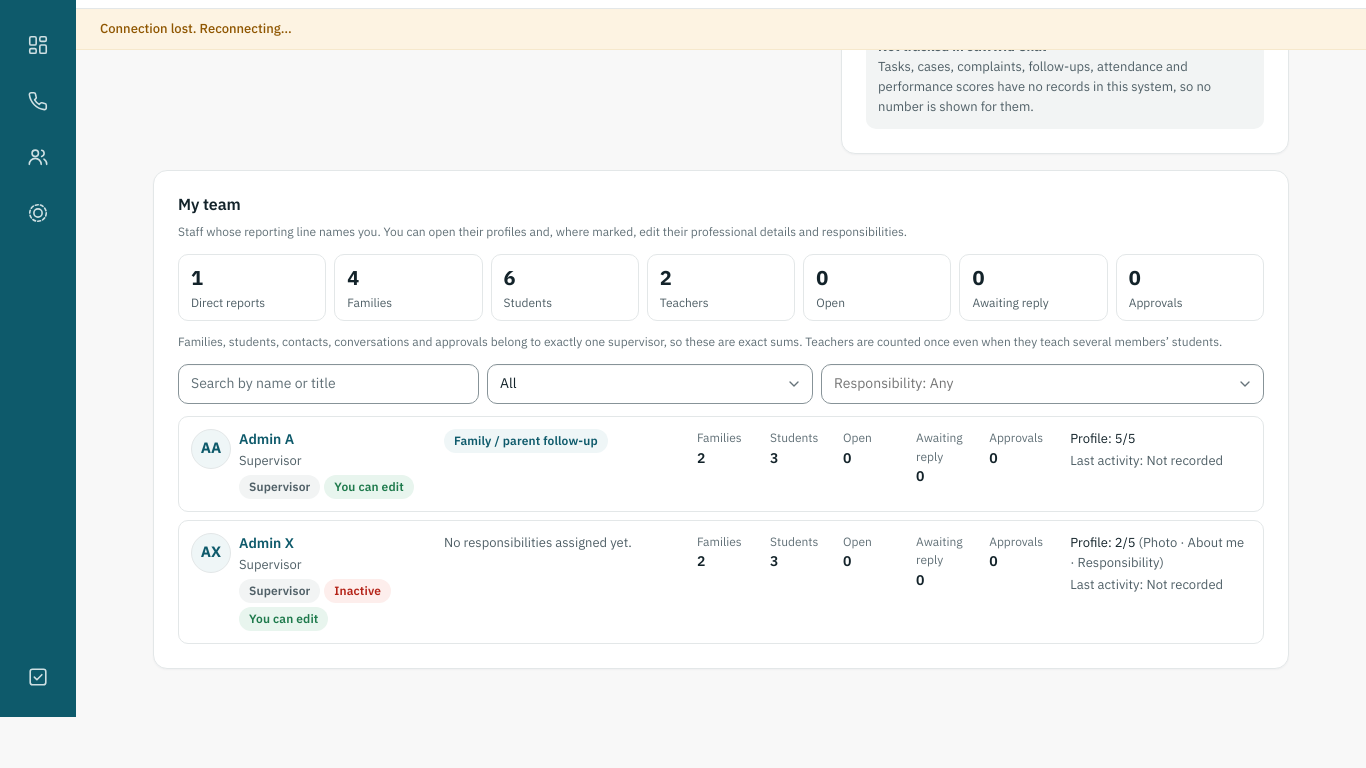
a manager › filters the team by search and by status
This screenshot has width=1366, height=768.
(page scrolled)
Expected: the link "Admin A" is shown, [239, 429, 294, 450]
Type "Admin X" into the search field with placeholder "Search by name or title" at (328, 384), box [178, 364, 479, 404]
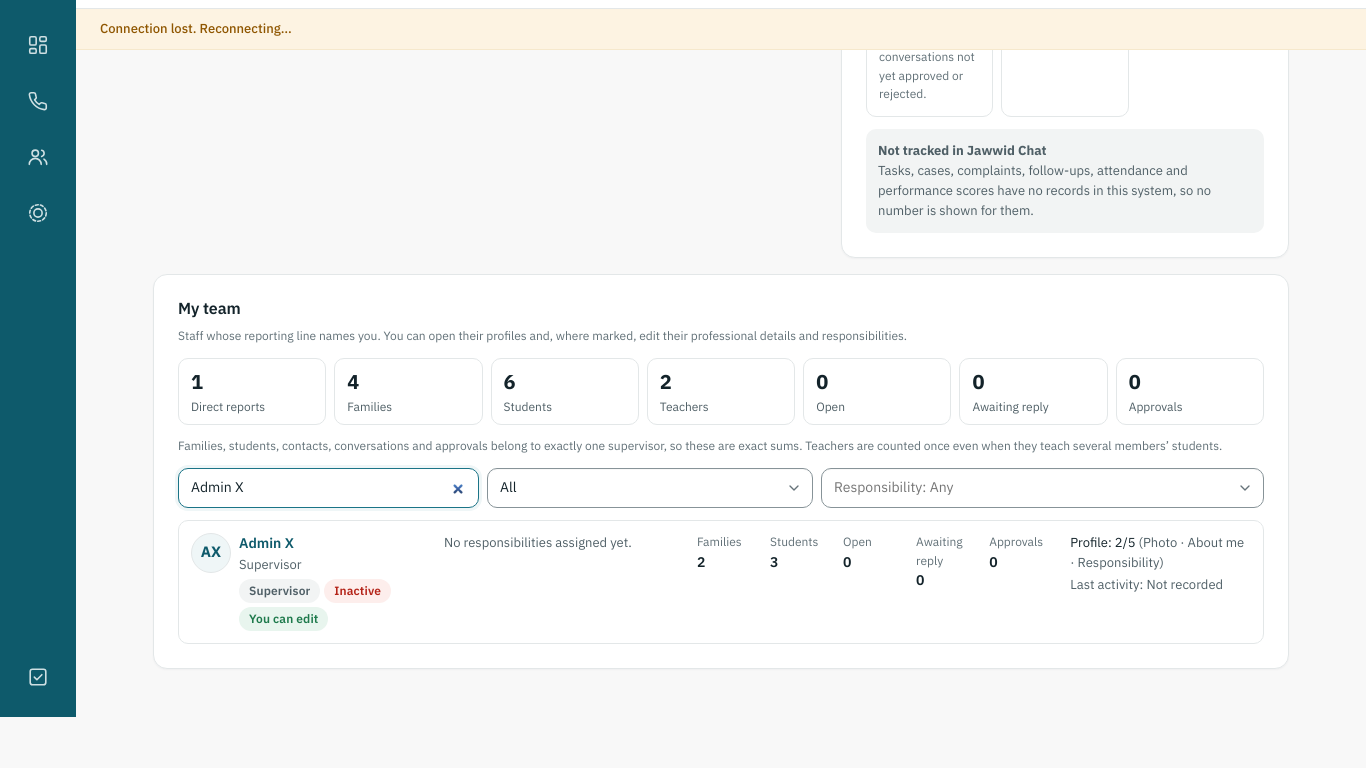
Expected: the link "Admin X" is shown, [239, 533, 294, 554]
Result: the link "Admin A" is gone
Clear the search field with placeholder "Search by name or title" at (328, 488), box [178, 468, 479, 508]
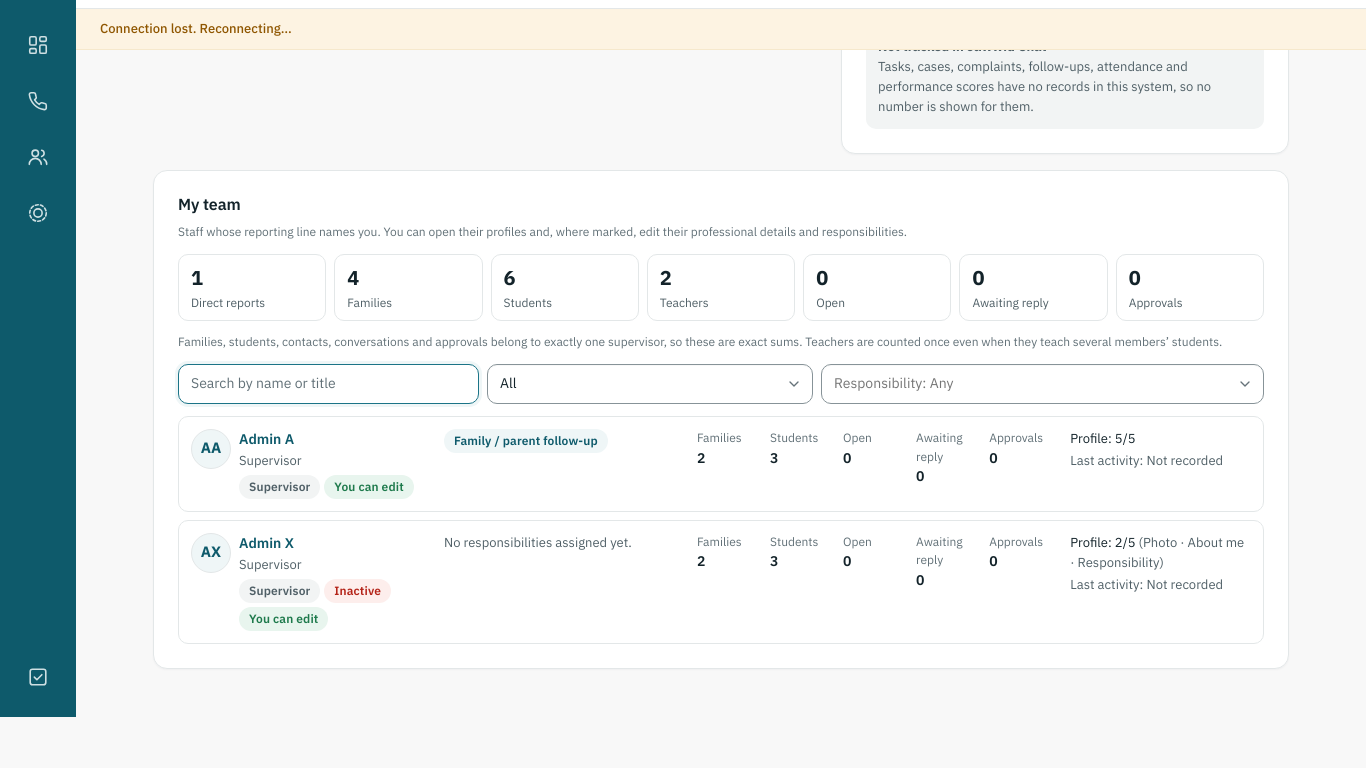
Click the dropdown named "Account status" at (650, 384), box [487, 364, 813, 404]
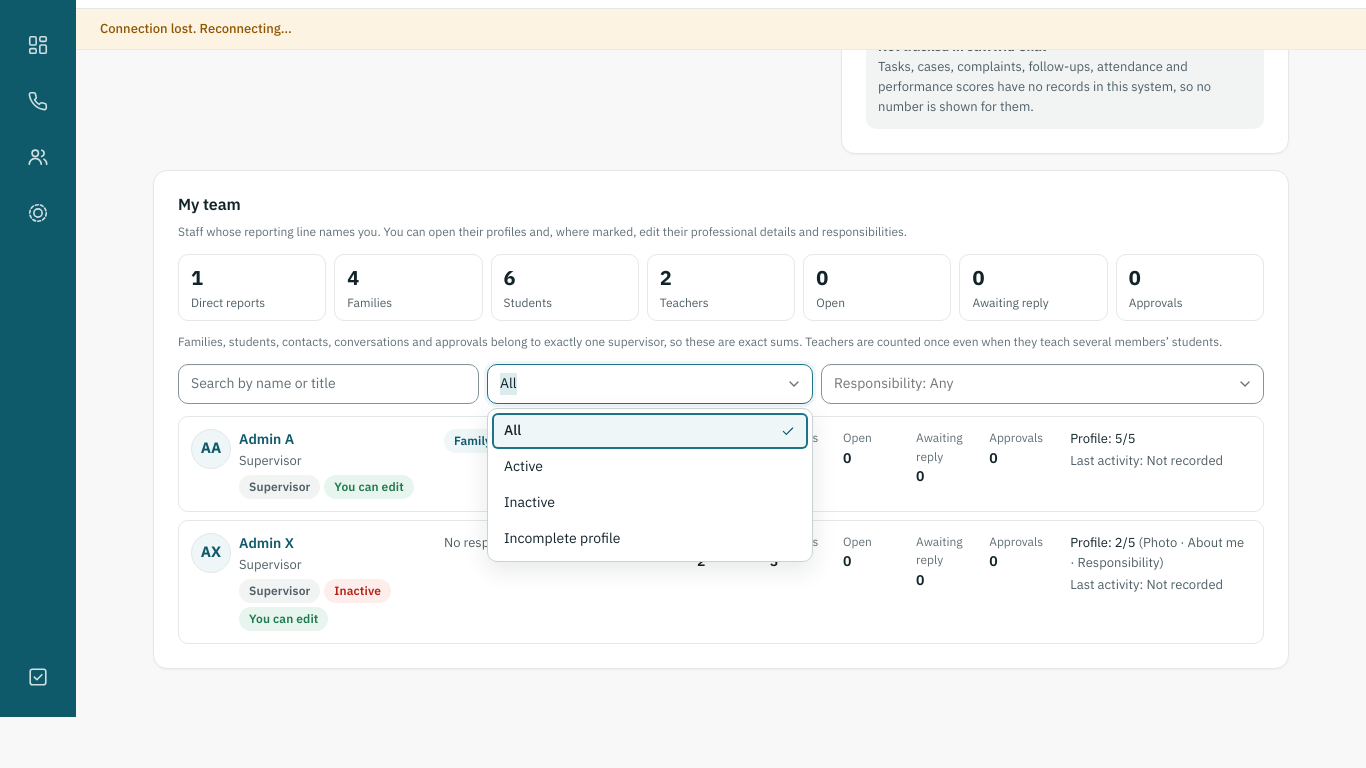
Click the option "Incomplete profile" at (562, 539), box [504, 528, 620, 549]
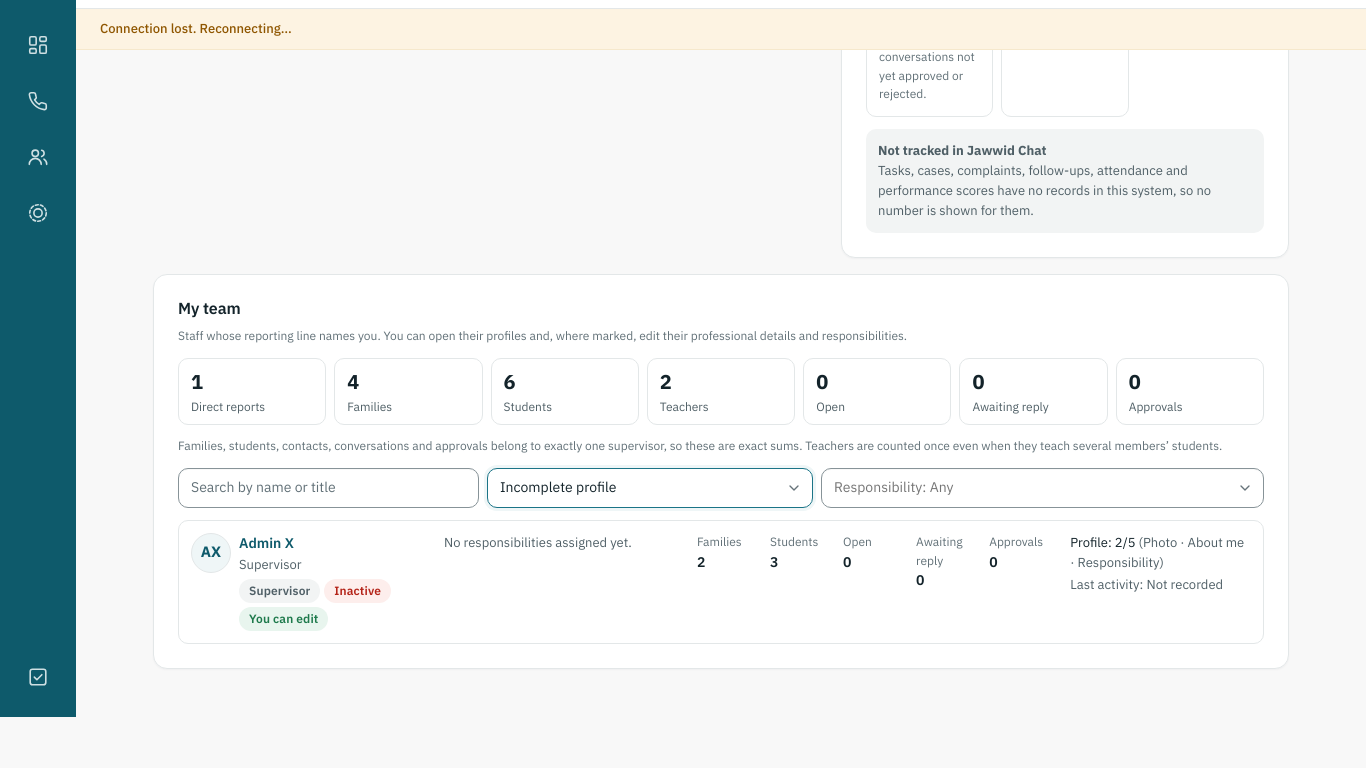
Expected: the link "Admin X" is shown, [239, 533, 294, 554]
Result: the link "Admin A" is gone
